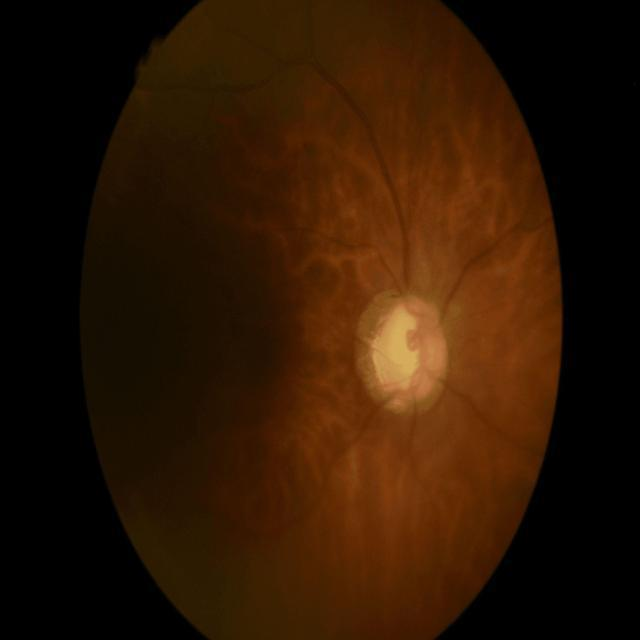cup: (372, 304, 428, 390)
disk: (352, 290, 450, 418)
